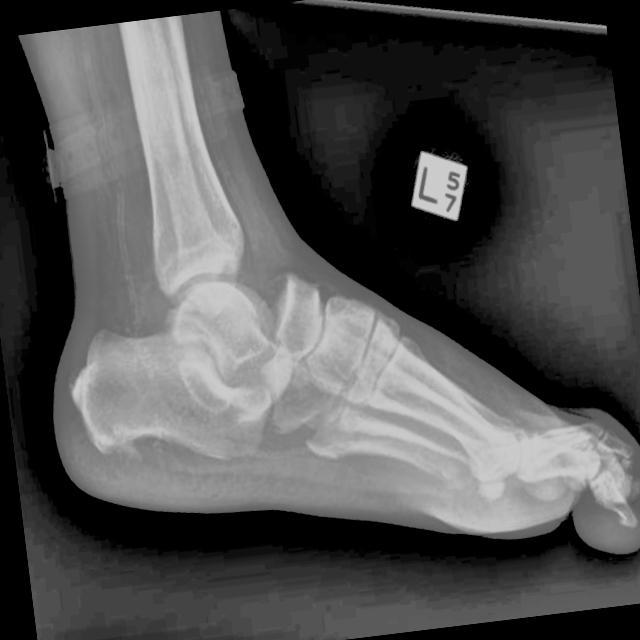Fracture Dislocation: (563, 436, 639, 540)
